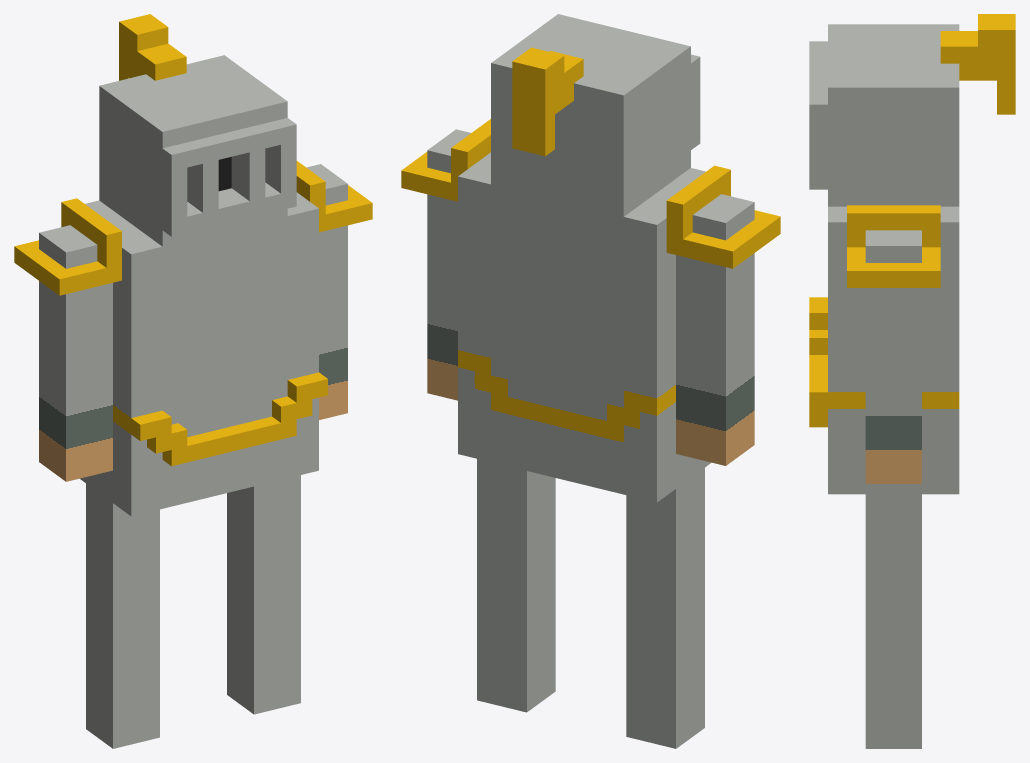
File: Knight.obj
3 renders of one model, left to right at view 1: azimuth 30°, elevation 25°; view 2: azimuth 150°, elevation 25°; view 3: azimuth 270°, elevation 25°, orthographic. The views are drawn at different scales.
Visible parts, largest first — view 1: Knight; view 2: Knight; view 3: Knight.
Part boxes in pixels (x1,y1,x2,y2): Knight: (14,14,372,748); Knight: (401,14,780,748); Knight: (809,14,1015,748).
Size of the model in its own units: 2 by 4 by 1.1.
1 material, 1 textured.
